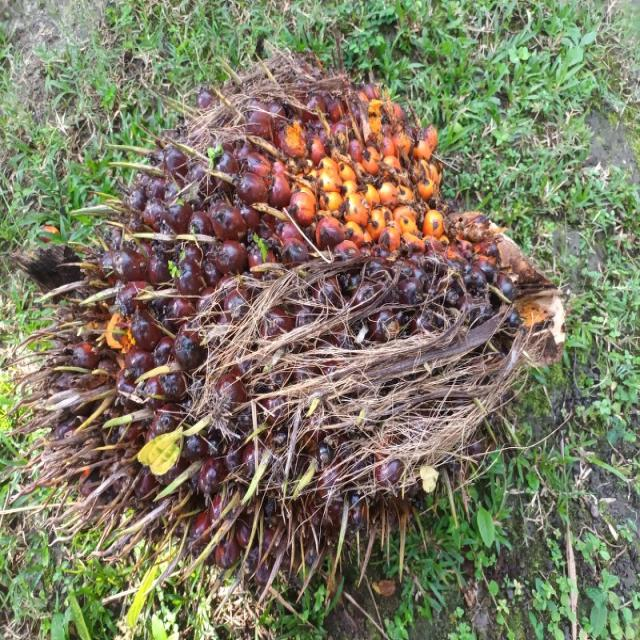fraksi 1: (38, 40, 596, 553)
